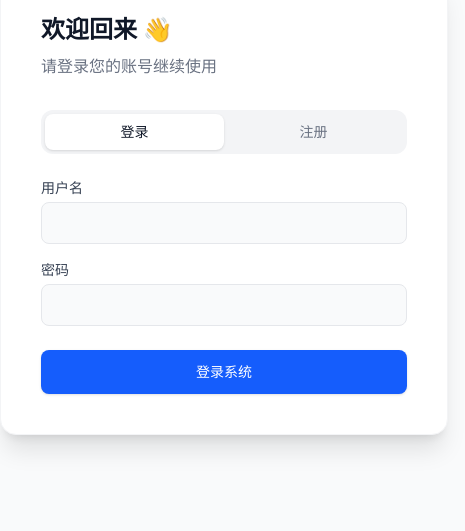
LoginPage › surfaces API login errors to users
Type "alice" into the field labelled "用户名" at (224, 223), box [41, 202, 407, 244]
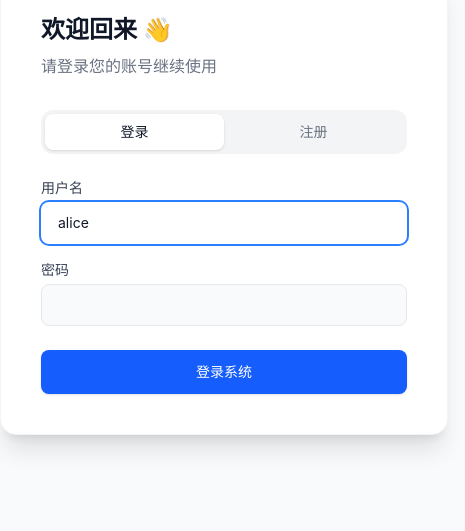
Type "123456" into the password field labelled "密码" at (224, 305), box [41, 284, 407, 326]
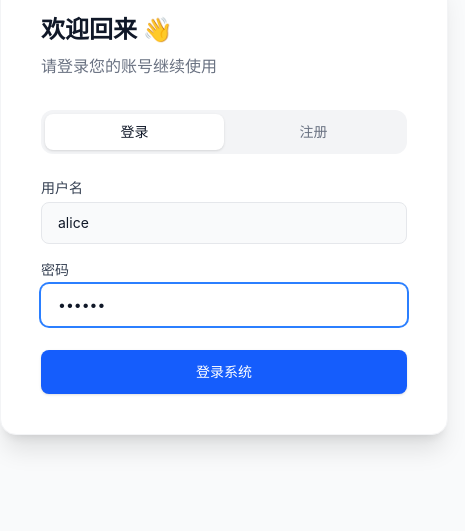
Click the button "登录系统" at (224, 372), box [41, 350, 407, 394]
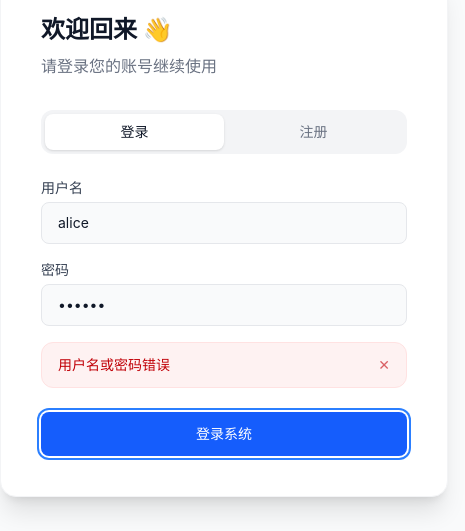
Expected: the message shows "用户名或密码错误", [58, 356, 170, 373]
